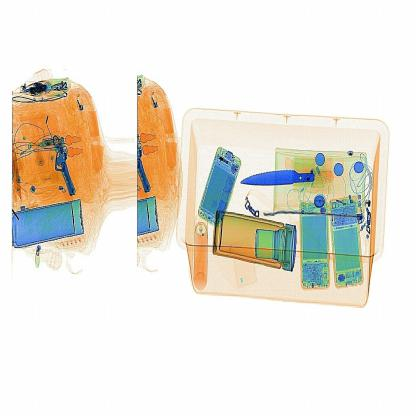wrench: (231, 159, 336, 193)
